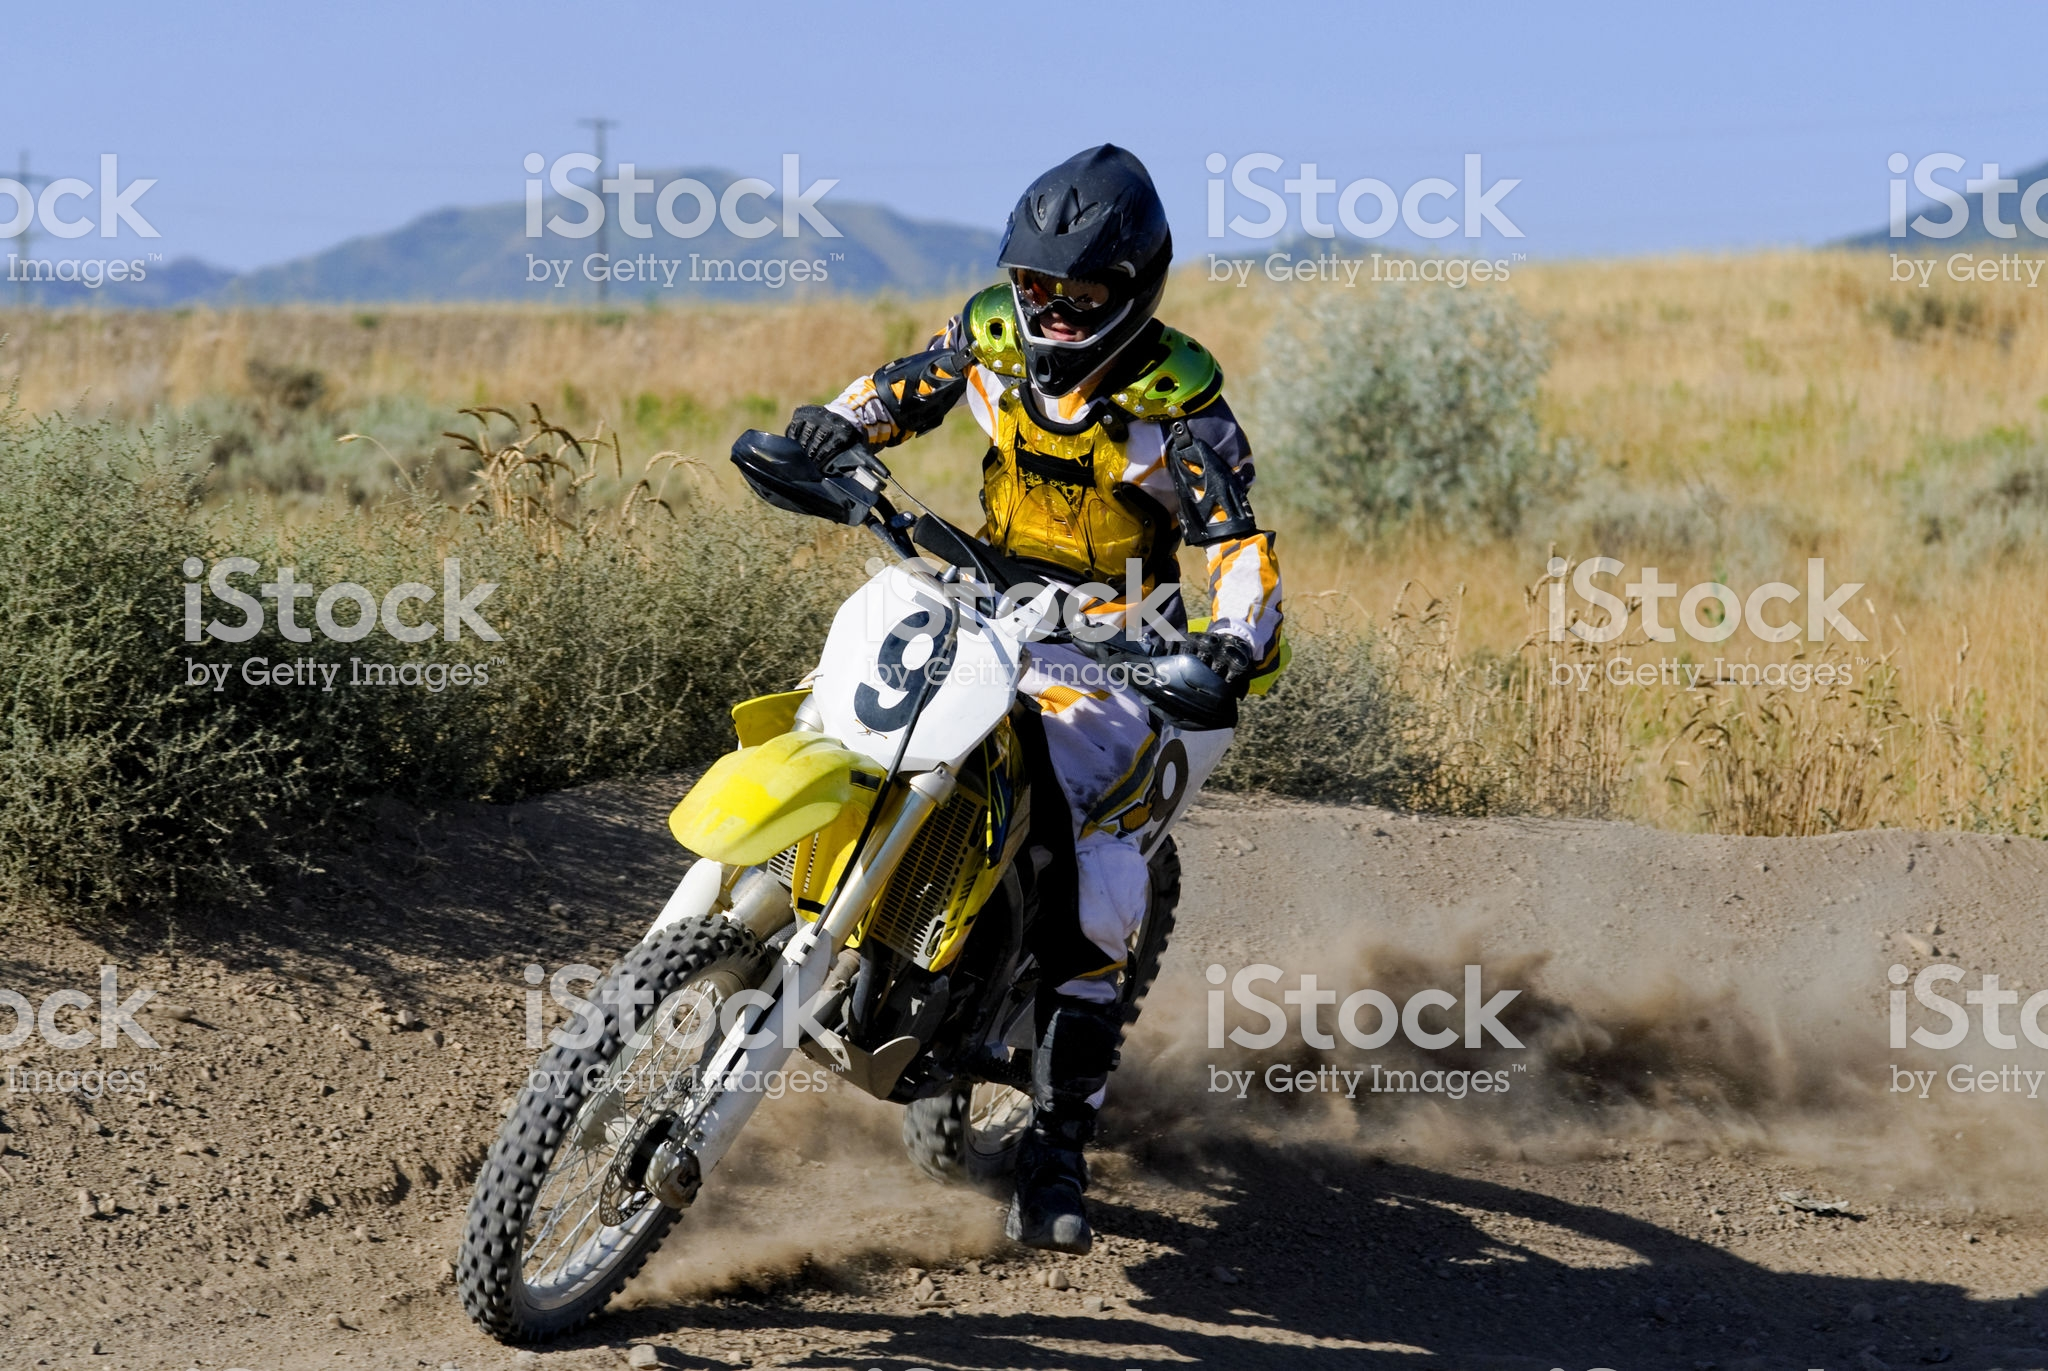helmet: (987, 103, 1188, 366)
